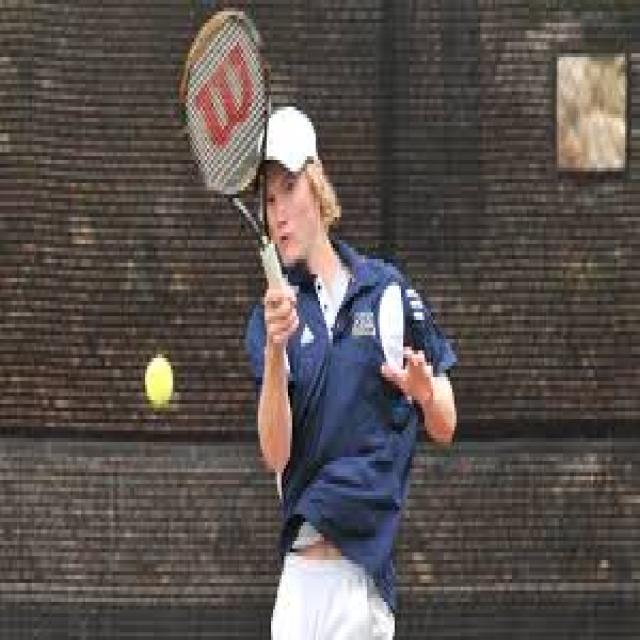ball: (146, 356, 172, 405)
